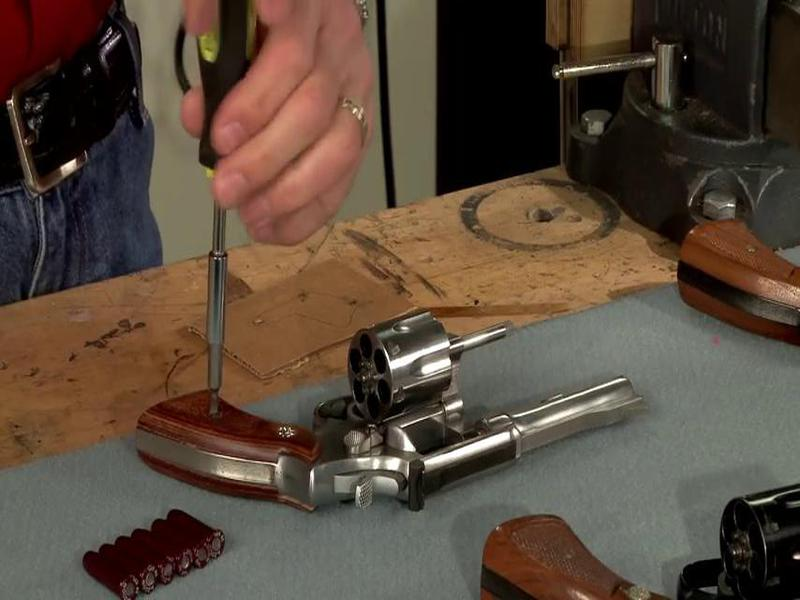Revolver: (133, 306, 651, 509)
